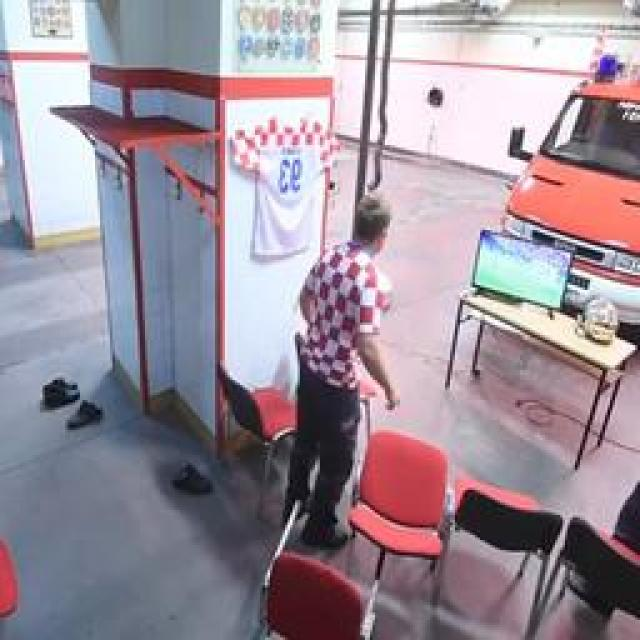person: (282, 180, 412, 560)
